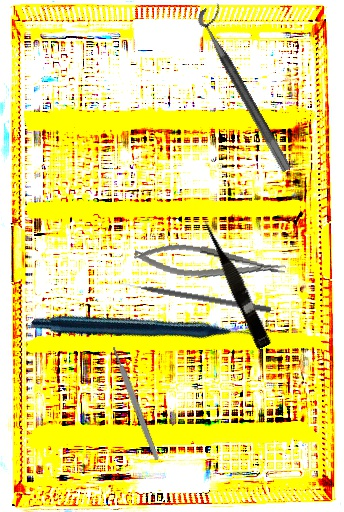Fixation Ring: (193, 1, 306, 174)
Handpiece: (28, 218, 264, 447)
Micro Scissor: (198, 216, 275, 350)
Needle Holder: (132, 236, 288, 291)
Pusher: (118, 278, 272, 314)
Scalpel Handle: (110, 345, 161, 462)
